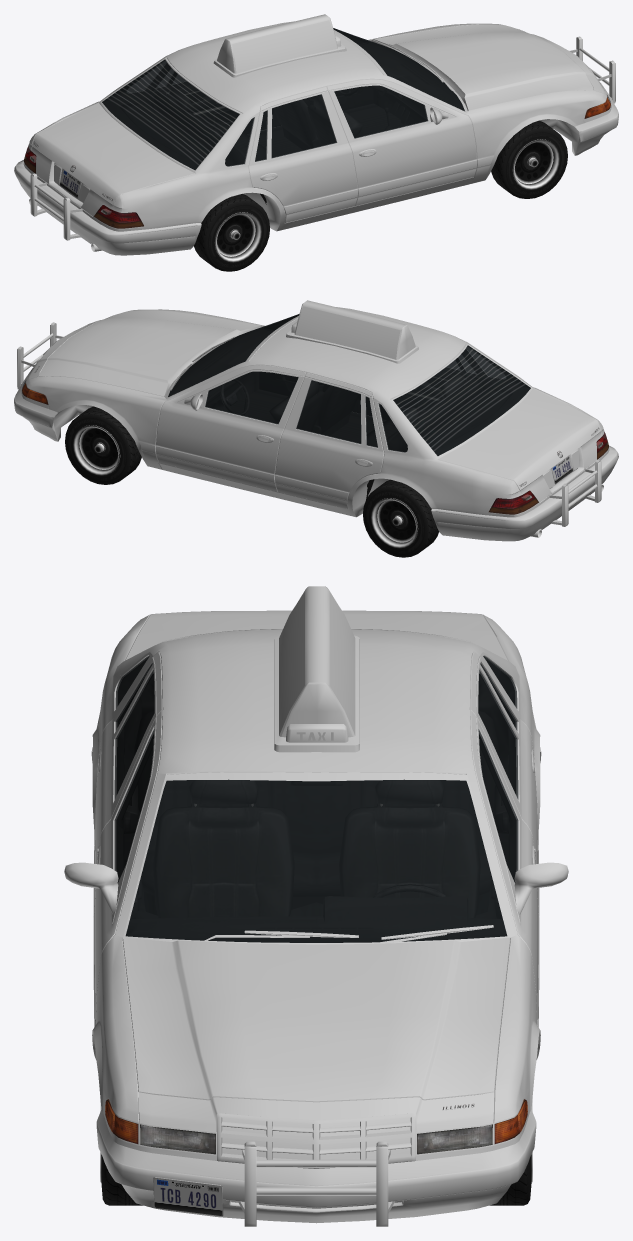
The model's file is Illinois90_Cop_TaxiB.fbx.
3 views of the same model, one above another, from view 1: azimuth 30°, elevation 25°; view 2: azimuth 150°, elevation 25°; view 3: azimuth 270°, elevation 25° (orthographic). The views are drawn at different scales.
Parts seen in each view (by area): view 1: Illinois90_Body, Illinois90_Interior, Illinois90_Hood, Illinois90_Trunkdoor, Illinois90_Bottom, Illinois90_Rear_Glass, Illinois90_Taxi_AddboxA, Illinois90_Body_Glass, Illinois90_WheelStock_RR, Illinois90_WheelStock_FR, Illinois90_Glass_Passenger, Illinois90_Bumper_rear (+10 smaller); view 2: Illinois90_Body, Illinois90_Interior, Illinois90_Hood, Illinois90_Trunkdoor, Illinois90_Bottom, Illinois90_Rear_Glass, Illinois90_Taxi_AddboxA, Illinois90_Body_Glass, Illinois90_WheelStock_RL, Illinois90_WheelStock_FL, Illinois90_glass_Driver, Illinois90_Bumper_rear (+11 smaller); view 3: Illinois90_Body, Illinois90_Interior, Illinois90_Hood, Illinois90_Windshield, Illinois90_Bottom, Illinois90_Taxi_AddboxA, Illinois90_Bumper_front, Illinois90_Bumper_front_inner, Illinois90_Trunkdoor, Illinois90_Body_Glass, Illinois90_Headlights_Glass, Illinois90_Bullbar (+7 smaller).
Part boxes in pixels (x1,y1,x2,y2): Illinois90_Body: (23,21,611,231); Illinois90_Interior: (102,29,464,204); Illinois90_Hood: (371,24,593,110); Illinois90_Trunkdoor: (31,103,195,216); Illinois90_Bottom: (24,30,611,251); Illinois90_Rear_Glass: (102,59,239,170); Illinois90_Taxi_AddboxA: (213,14,346,77); Illinois90_Body_Glass: (127,61,336,166); Illinois90_WheelStock_RR: (194,194,269,271); Illinois90_WheelStock_FR: (491,120,567,198); Illinois90_Glass_Passenger: (334,85,427,138); Illinois90_Bumper_rear: (15,160,201,255); Illinois90_Body: (21,307,609,517); Illinois90_Interior: (168,314,530,499); Illinois90_Hood: (39,310,261,396); Illinois90_Trunkdoor: (437,389,601,501); Illinois90_Bottom: (21,316,608,537); Illinois90_Rear_Glass: (393,345,530,455); Illinois90_Taxi_AddboxA: (286,300,418,363); Illinois90_Body_Glass: (296,347,505,452); Illinois90_WheelStock_RL: (363,479,438,557); Illinois90_WheelStock_FL: (65,406,141,484); Illinois90_glass_Driver: (205,371,298,424); Illinois90_Bumper_rear: (431,445,617,541); Illinois90_Body: (92,614,540,1160); Illinois90_Interior: (116,660,516,942); Illinois90_Hood: (122,937,510,1102); Illinois90_Windshield: (125,779,507,942); Illinois90_Bottom: (64,629,568,1168); Illinois90_Taxi_AddboxA: (274,586,359,752); Illinois90_Bumper_front: (96,1110,536,1223); Illinois90_Bumper_front_inner: (96,1123,536,1208); Illinois90_Trunkdoor: (125,610,507,660); Illinois90_Body_Glass: (114,656,518,799); Illinois90_Headlights_Glass: (105,1099,527,1154); Illinois90_Bullbar: (238,1141,394,1226).
Size of the model in its own units: 5.27 by 1.67 by 2.09.
